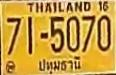0: (66, 15, 79, 51), (97, 15, 110, 50)
1: (27, 16, 32, 52)
5: (50, 16, 64, 52)
7: (6, 17, 20, 54), (81, 15, 95, 51)
PTE: (35, 55, 86, 75)
